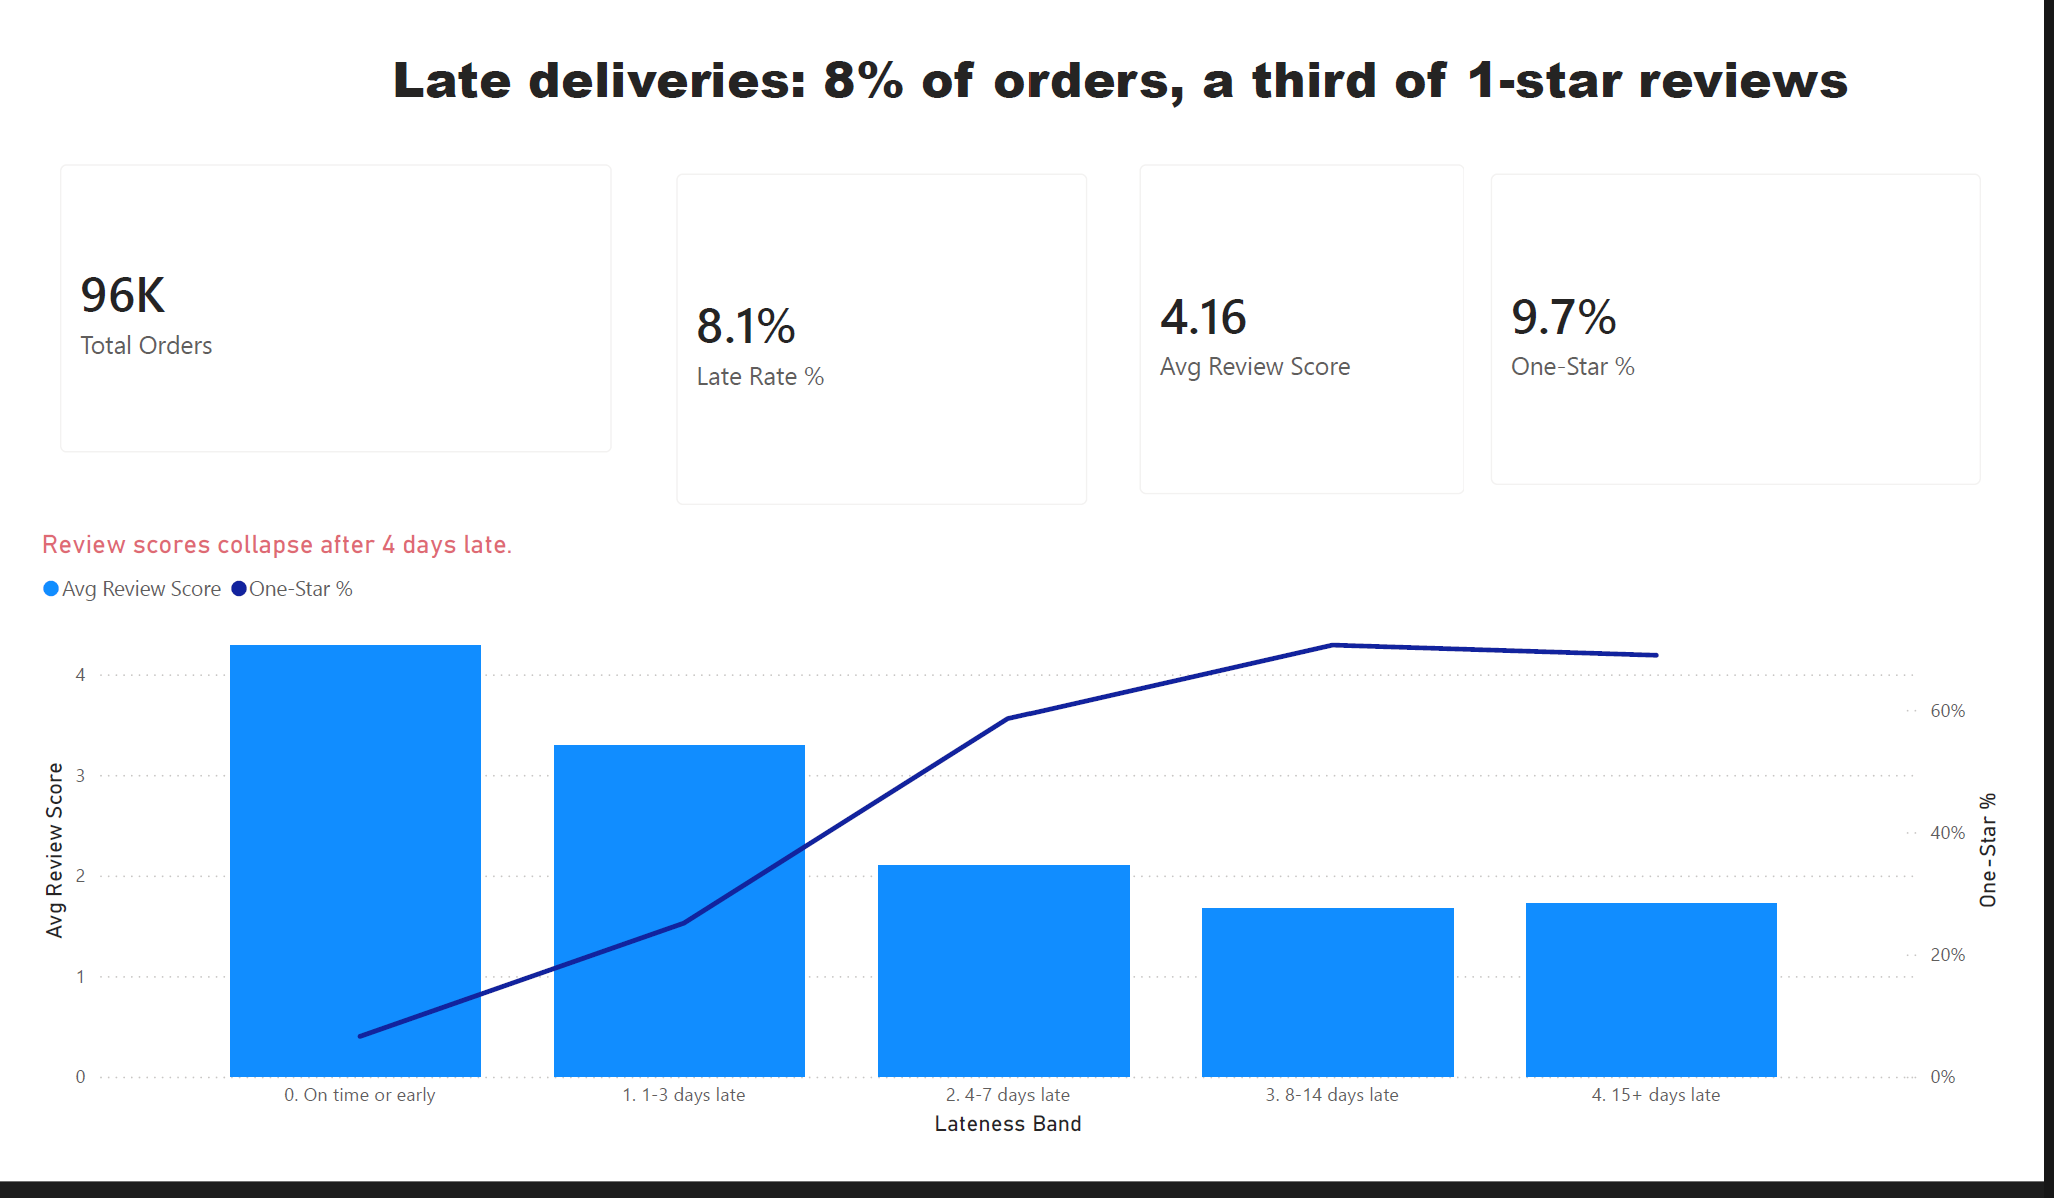

The dashboard page shown, as its layout file describes it:
{"tool":"powerbi","page":{"name":"Overview","canvas":[1280,720],"ordinal":0},"visuals":[{"type":"textbox","box":[119.4,0,1160.6,73.5],"z":0},{"type":"cardVisual","fields":{"Data":["Calendar.Total Orders"]},"box":[0,67.4,392,220.5],"z":1000},{"type":"cardVisual","fields":{"Data":["Calendar.Late Rate %"]},"box":[399.6,73.5,300.1,248],"z":2000},{"type":"cardVisual","fields":{"Data":["Calendar.Avg Review Score"]},"box":[699.7,67.4,245,248],"z":3000},{"type":"cardVisual","fields":{"Data":["Calendar.One-Star %"]},"box":[927.8,73.5,352.2,235.8],"z":4000},{"type":"lineClusteredColumnComboChart","title":"Review scores collapse after 4 days late.","fields":{"Category":["clean orders.Lateness Band"],"Y":["Calendar.Avg Review Score"],"Y2":["Calendar.One-Star %"]},"box":[0,320,1280,399.6],"z":5000}]}

Visuals, with their boxes on the page's 1280x720 design canvas (x1, y1, x2, y2). These are canvas units, not pixel positions in the 2054x1198 screenshot, which may show the page scaled, cropped or inside an application window:
textbox: l=119, t=0, r=1280, b=74
cardVisual - Calendar.Total Orders: l=0, t=67, r=392, b=288
cardVisual - Calendar.Late Rate %: l=400, t=74, r=700, b=322
cardVisual - Calendar.Avg Review Score: l=700, t=67, r=945, b=315
cardVisual - Calendar.One-Star %: l=928, t=74, r=1280, b=309
"Review scores collapse after 4 days late." lineClusteredColumnComboChart: l=0, t=320, r=1280, b=720
